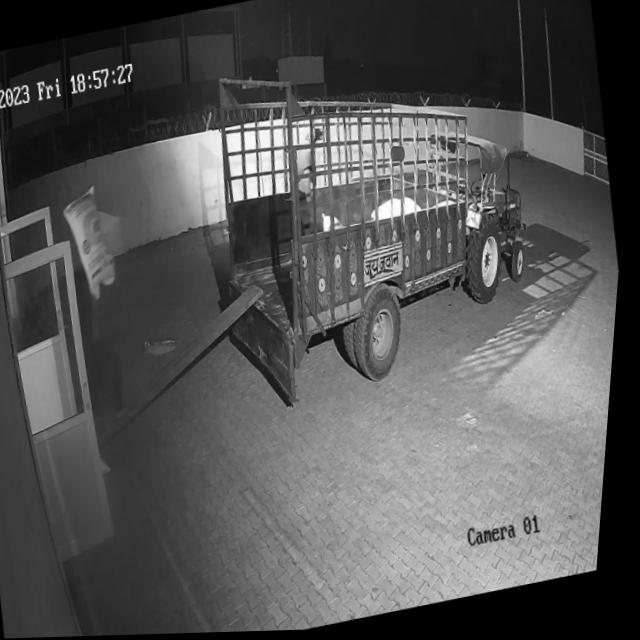sack: (57, 182, 128, 305)
